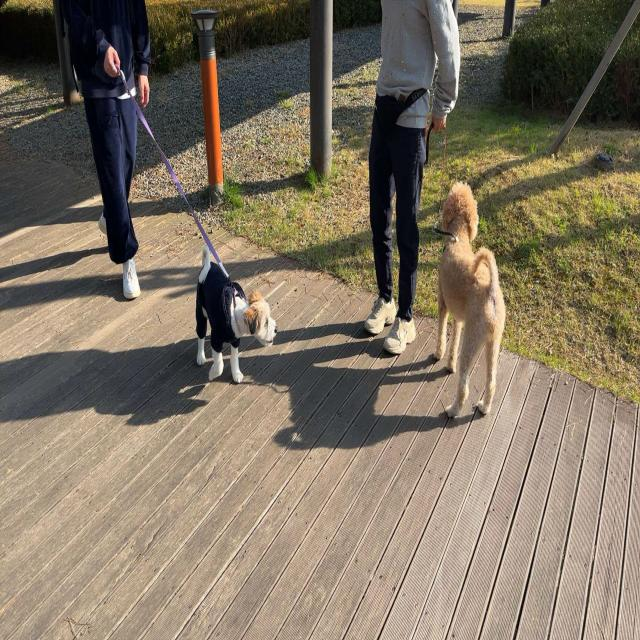Leashed_Dog: (122, 90, 279, 386), (405, 85, 506, 419)
